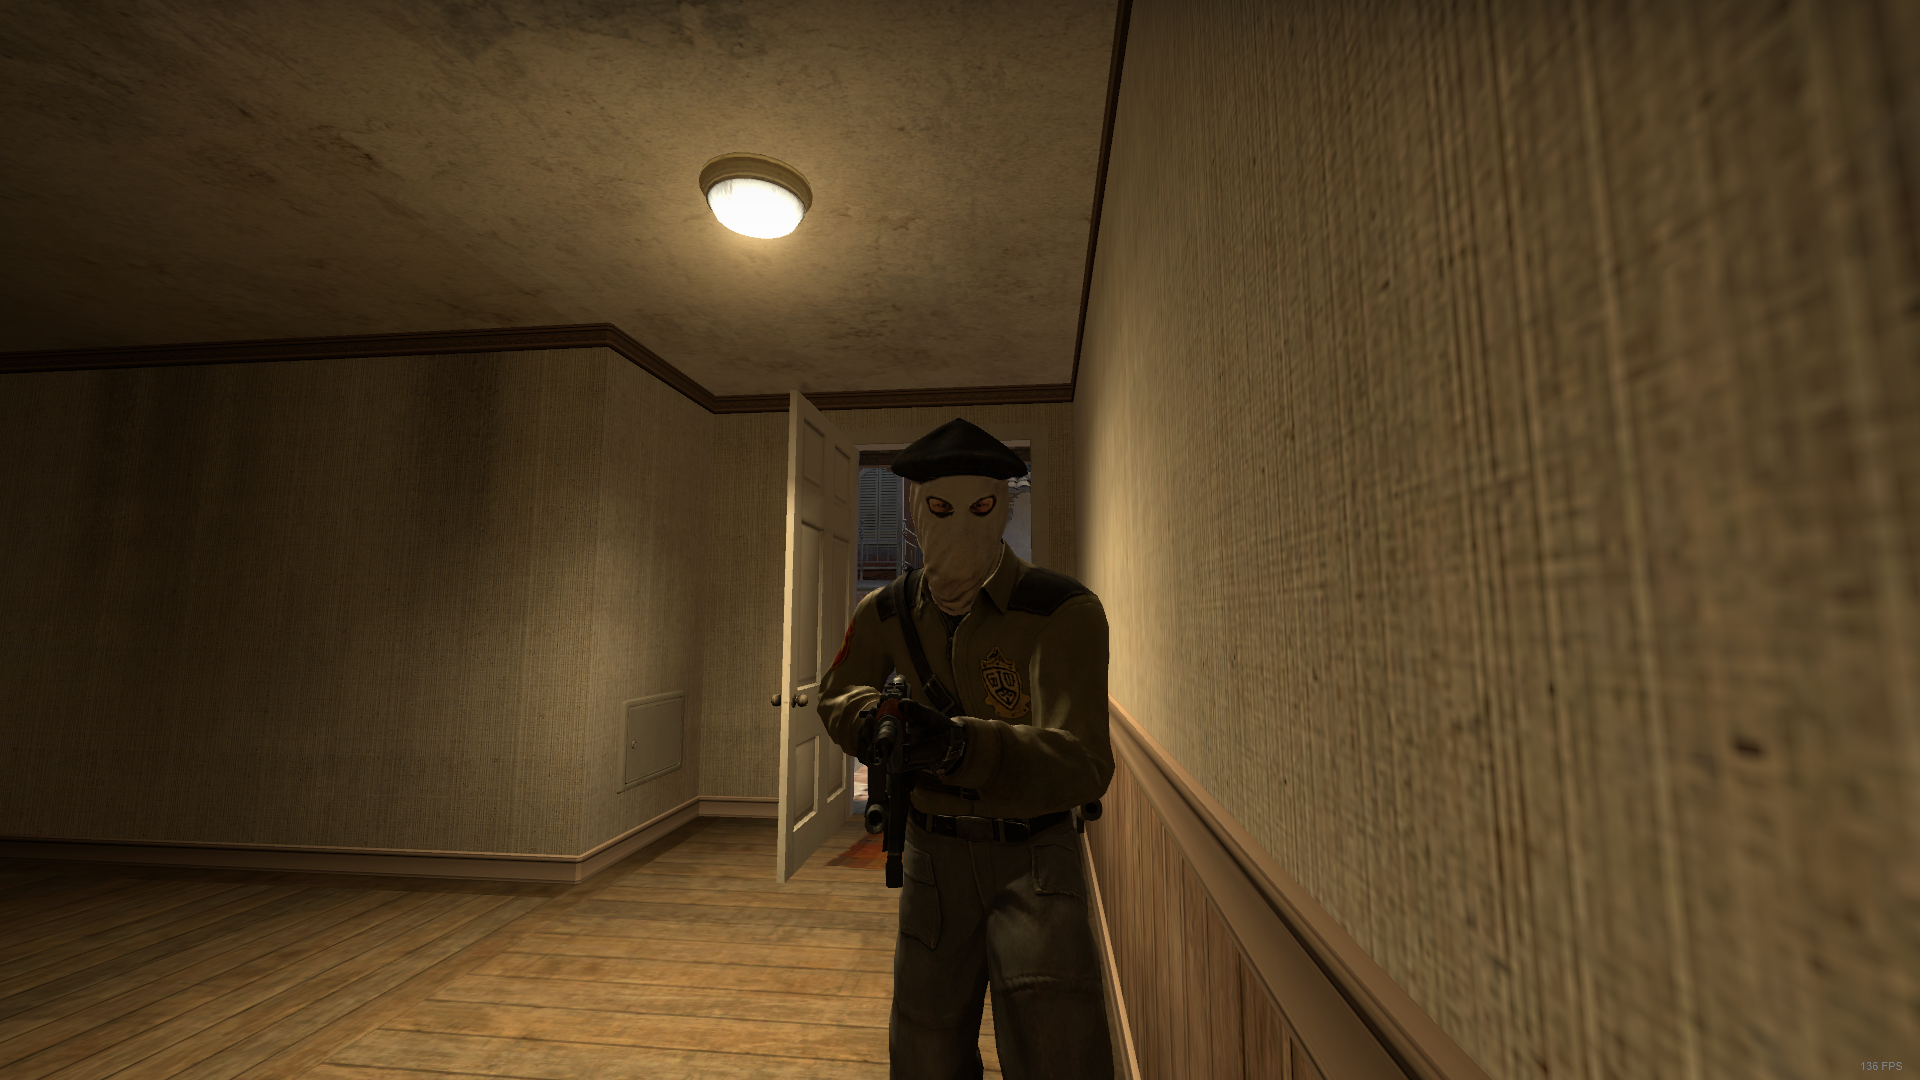t: (816, 417, 1116, 1080)
